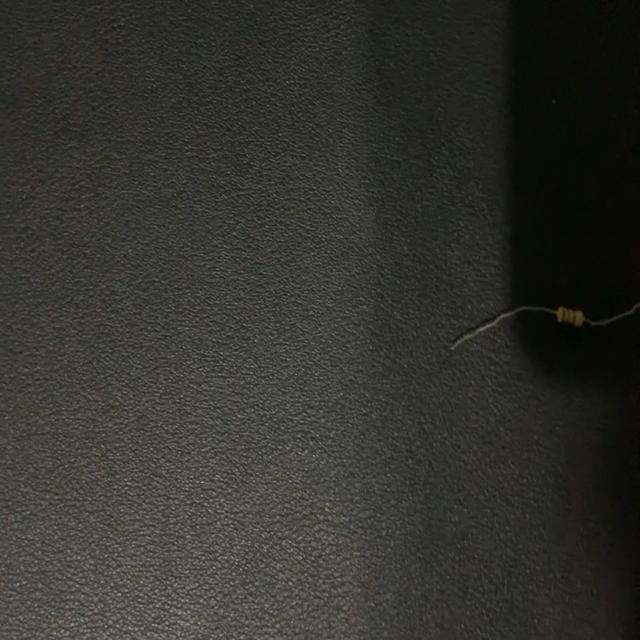resistor: (446, 286, 640, 359)
